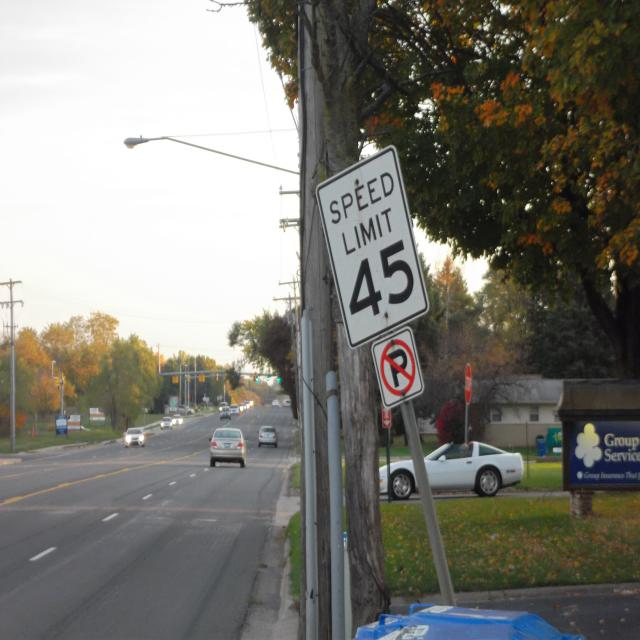regulatory: (320, 144, 434, 340), (368, 328, 427, 410)
